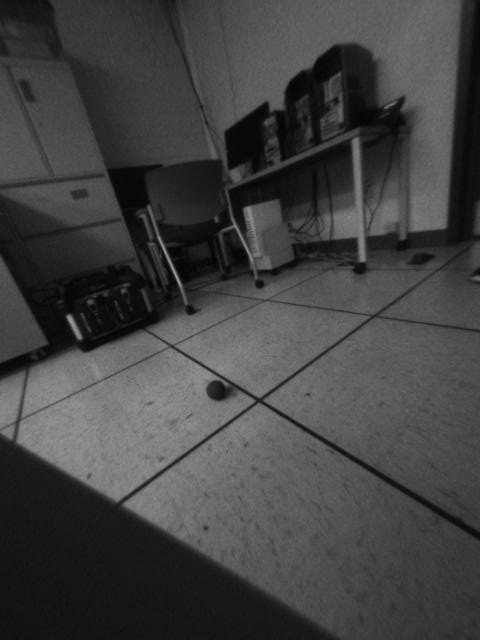dogtoy: (200, 375, 235, 406)
